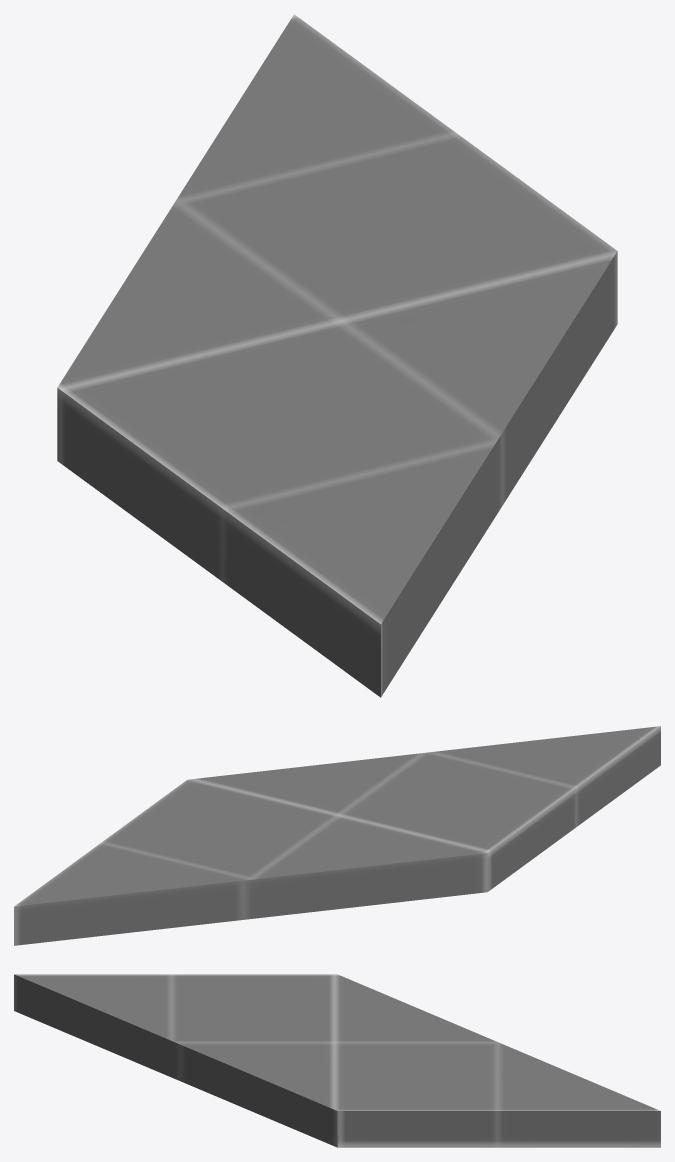
Rendered from PlatformAngle_A.fbx.
The picture shows the model from 3 angles, top to bottom: view 1: azimuth 30°, elevation 25°; view 2: azimuth 150°, elevation 25°; view 3: azimuth 270°, elevation 25°; orthographic projection. The views are drawn at different scales.
Visible parts, largest first — view 1: Plateforme_C; view 2: Plateforme_C; view 3: Plateforme_C.
Boxes of the visible parts, x1,y1,x2,y2 form: Plateforme_C: [57, 14, 617, 697]; Plateforme_C: [14, 726, 660, 945]; Plateforme_C: [14, 974, 660, 1147].
Size of the model in its own units: 8 by 16 by 1.
Materials: 1 (1 with a texture image).
